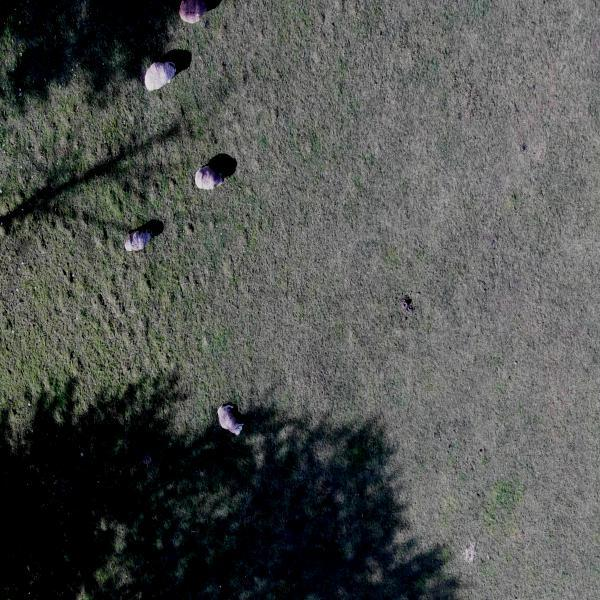sheep: (213, 389, 246, 442), (122, 217, 155, 263), (191, 157, 227, 199), (139, 59, 180, 95), (170, 0, 209, 34)
